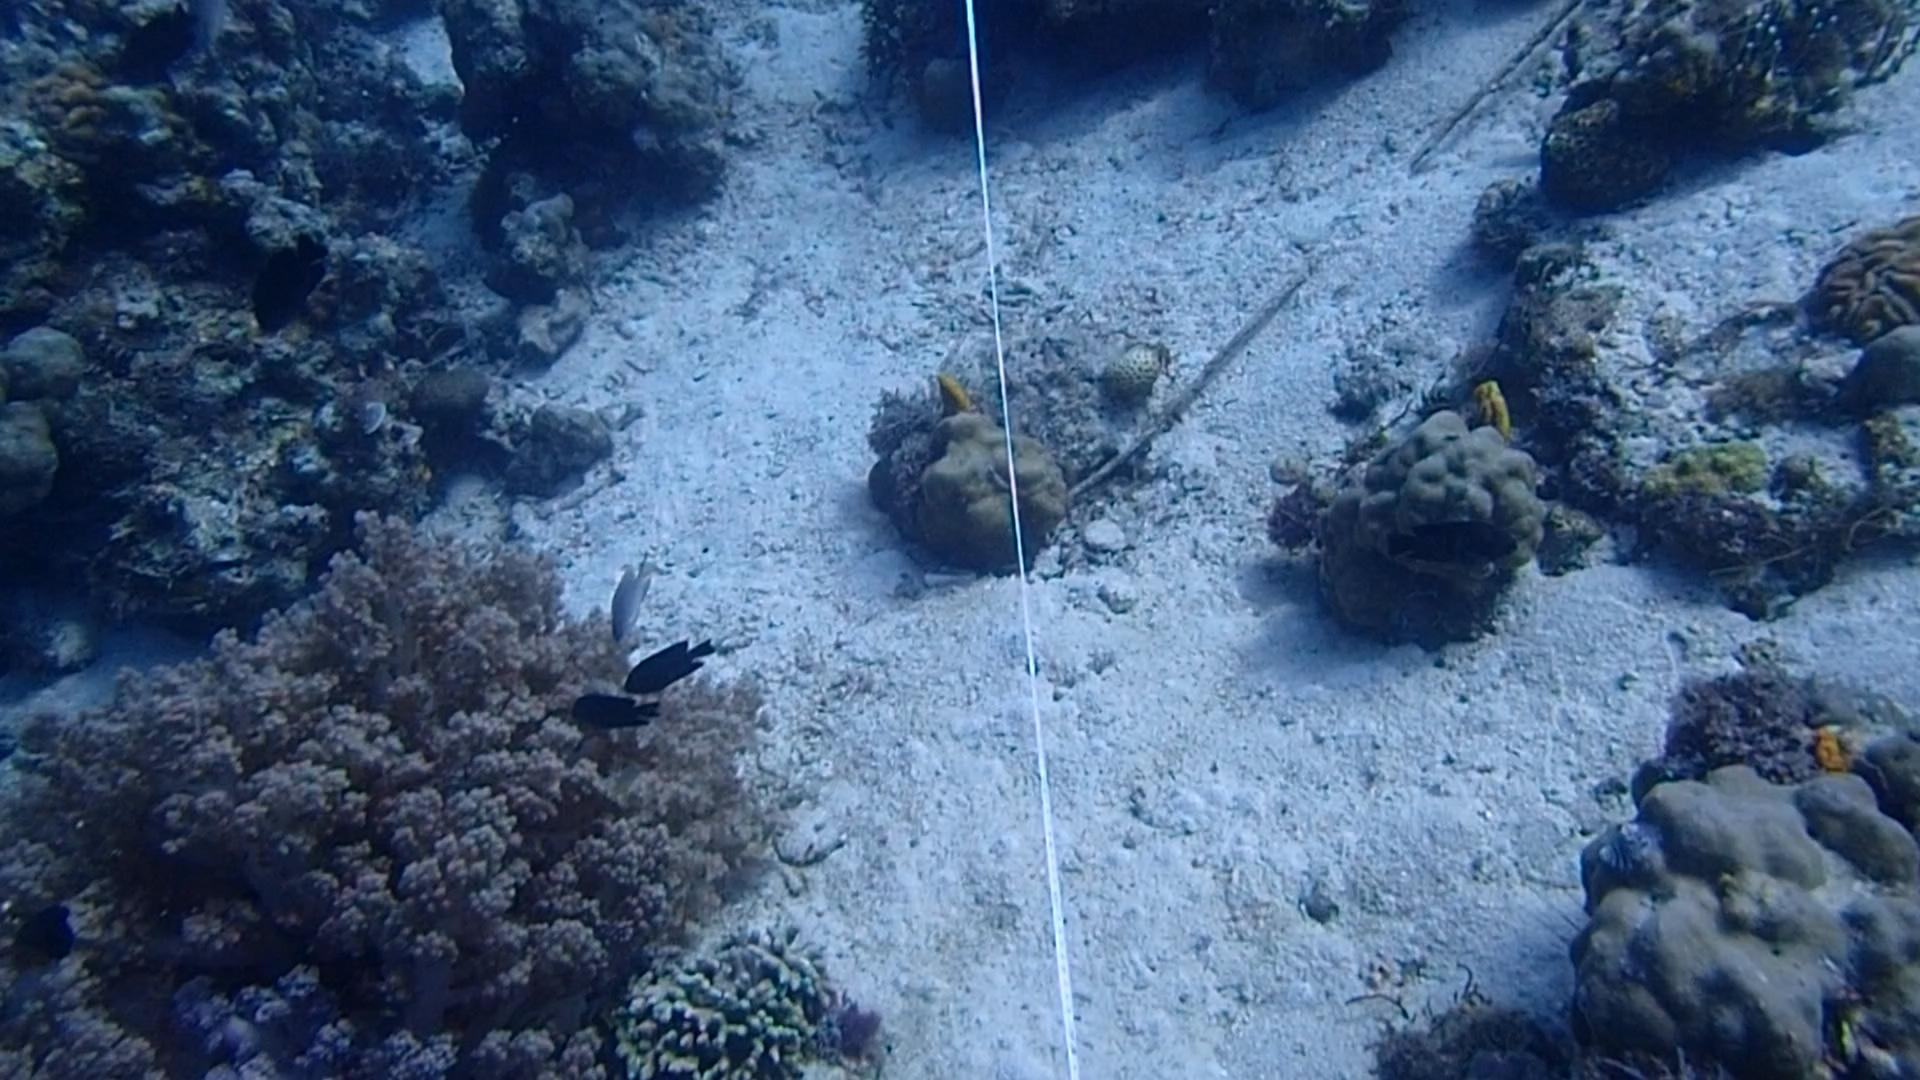Dark Fish: (235, 218, 343, 347), (1377, 510, 1530, 578), (618, 633, 727, 705), (560, 678, 673, 742), (9, 891, 86, 984), (117, 0, 211, 67)
Light Fish: (589, 550, 658, 650)
